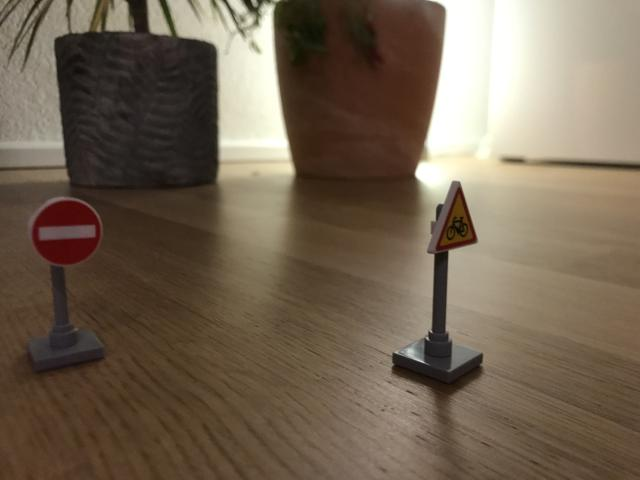radfahrer: (426, 179, 480, 254)
verbot der einfahrt: (30, 195, 103, 269)
